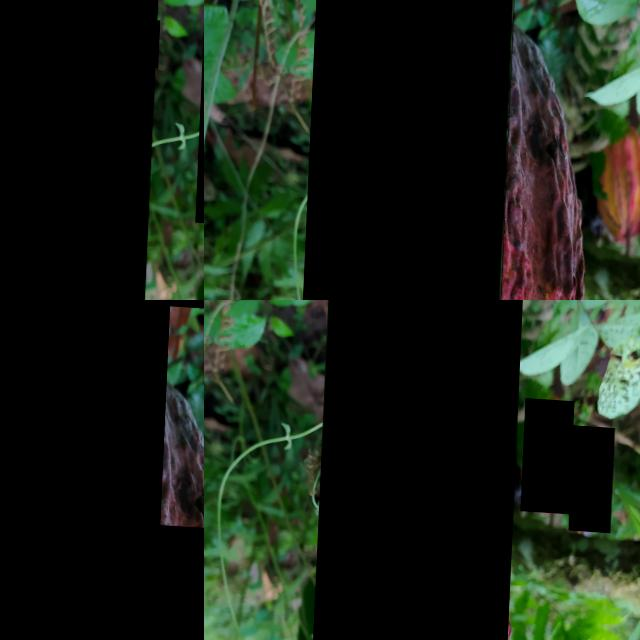Fitoftora: (310, 300, 524, 640)
Sana: (303, 0, 516, 300), (0, 300, 170, 640), (0, 0, 160, 300), (79, 516, 204, 640), (523, 392, 576, 507), (571, 418, 616, 525), (141, 17, 161, 65)
